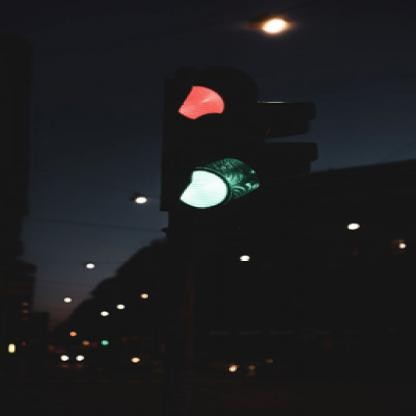trafficlight: (151, 63, 323, 240)
